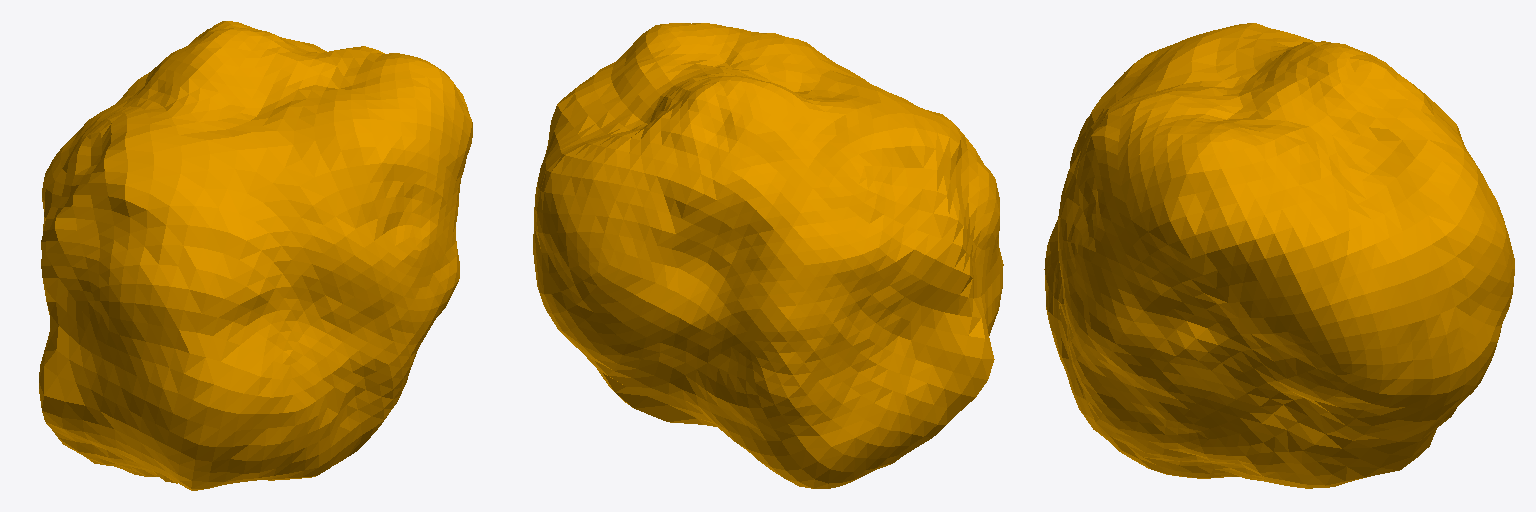
The robot description file, URDF, robot "rock":
<?xml version="1.0" ?>
<robot name="rock">
  <link name="rock">
    <inertial>
      <mass value="0.25"/>
      <origin rpy="0 0 0" xyz="0 0 0"/>
      <inertia ixx="0.00025" ixy="0" ixz="0" iyy="0.00025" iyz="0" izz="0.00025"/>
    </inertial>
    <collision name="rock_collision">
      <origin rpy="0 0 0" xyz="0 0 0"/>
      <geometry>
        <mesh filename="package://rocks/collision/1.stl" scale="1 1 1"/>
      </geometry>
    </collision>
    <visual name="rock_visual">
      <origin rpy="0 0 0" xyz="0 0 0"/>
      <geometry>
        <mesh filename="package://rocks/visual/1.dae" scale="1 1 1"/>
      </geometry>
    </visual>
  </link>
</robot>

--- Facts derived from the render (not from the file) ---
The picture shows the robot from 3 angles, left to right: view 1: azimuth 30°, elevation 25°; view 2: azimuth 150°, elevation 25°; view 3: azimuth 270°, elevation 25°; orthographic projection.
Robot: rock — 1 links, 0 joints (none); root link rock; default pose: all joints at 0.
Visible links, largest first — view 1: rock; view 2: rock; view 3: rock.
Boxes of the visible links, x1,y1,x2,y2 form: rock: [39, 21, 472, 490]; rock: [533, 23, 1003, 488]; rock: [1044, 23, 1514, 488].
Bounding box of the posed robot: 0.0966 × 0.0822 × 0.0841 m (x, y, z).
1 mesh visuals loaded from 1 distinct referenced files (1 Collada DAE).